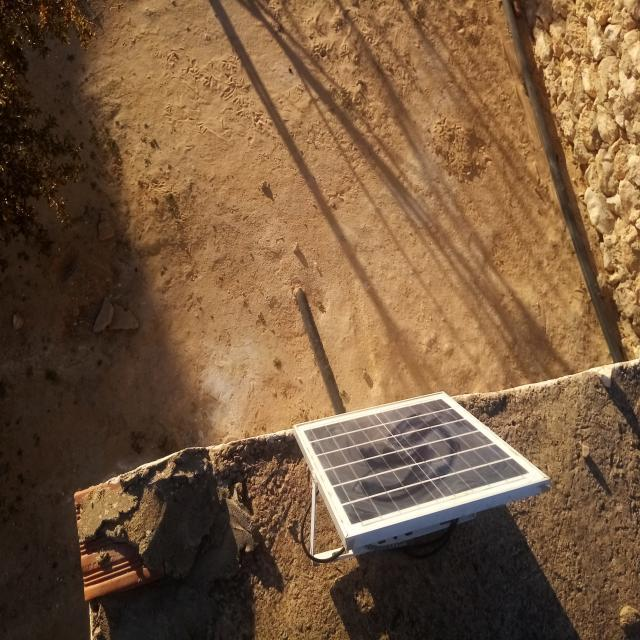faulty: (295, 391, 546, 535)
